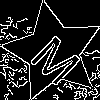M: (28, 27, 90, 88)
